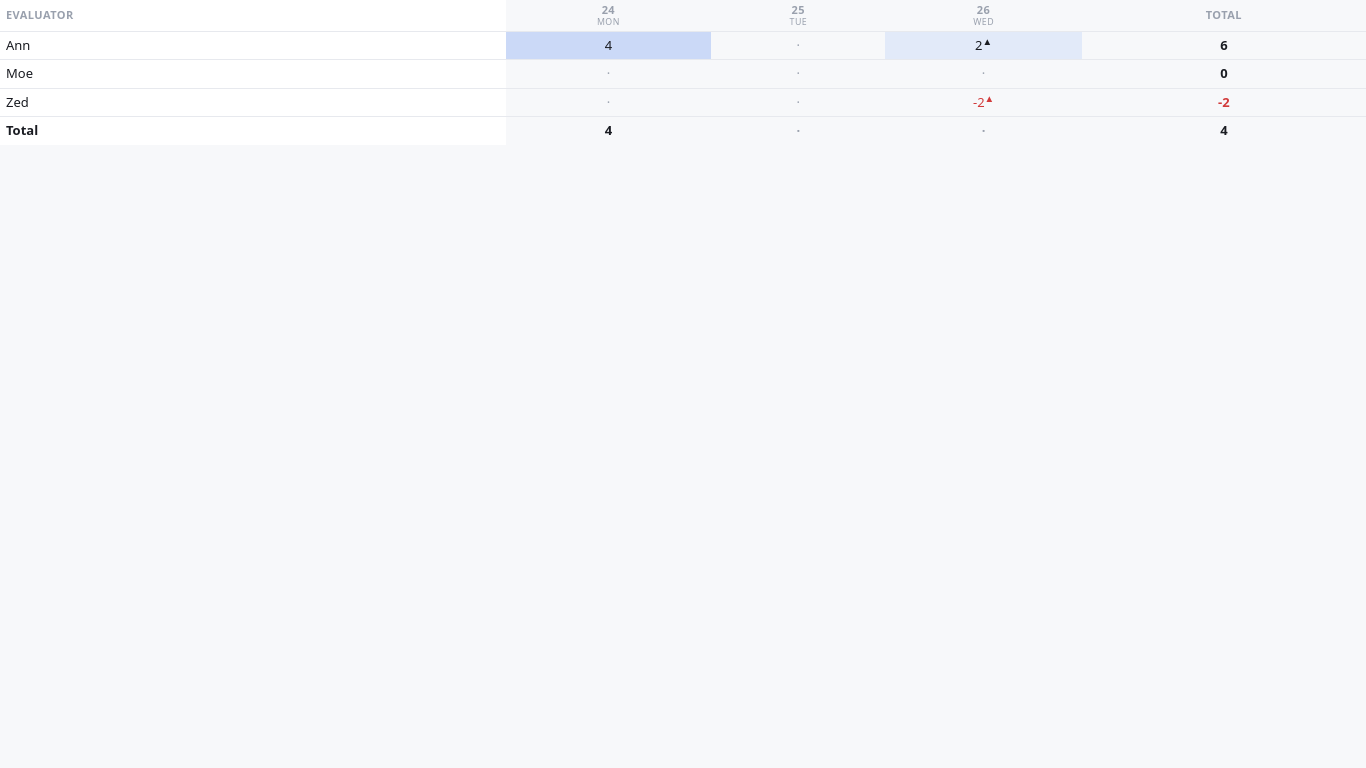
Scenario: AssignHistoryMatrix › clicking a total opens the assign vs reassign sums only
Click the button "6".
click(1224, 46)  # box [1088,36,1360,55]
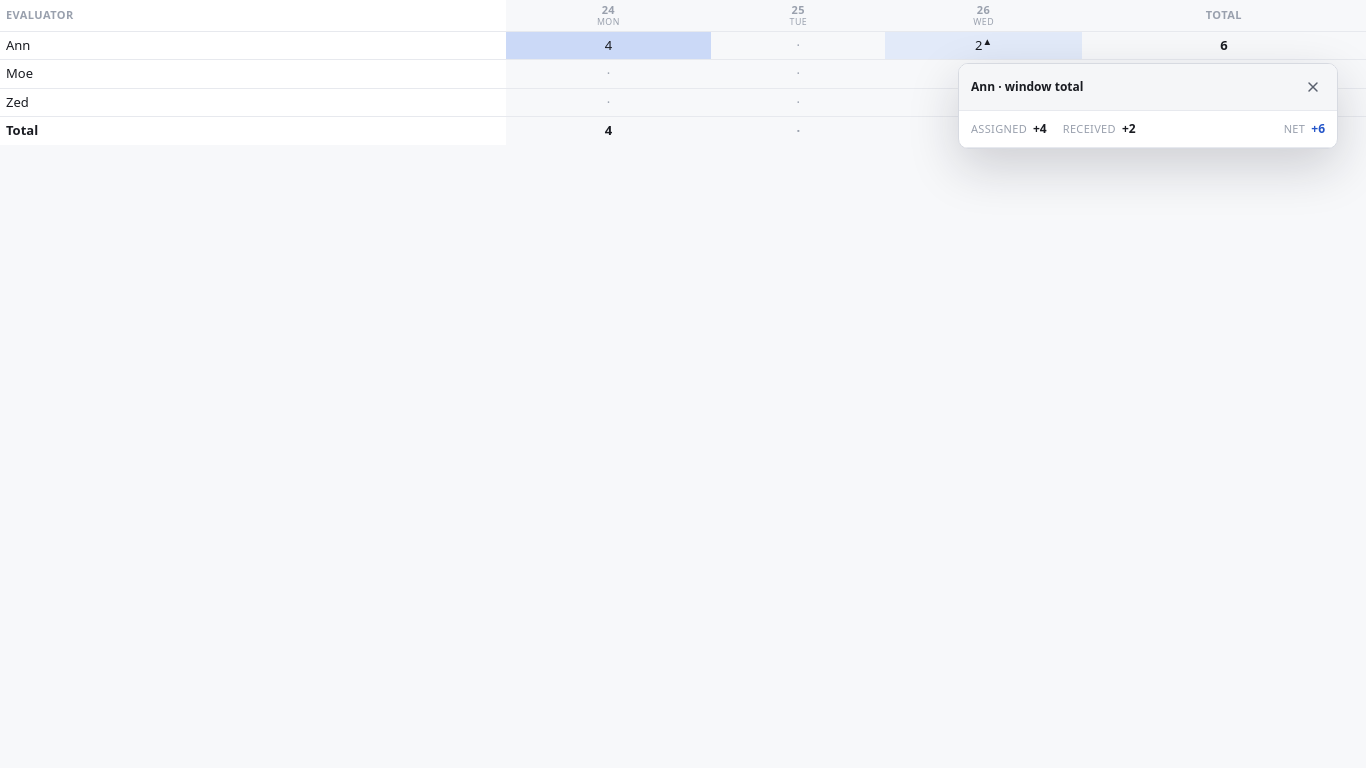
Now the dialog shows "Assigned", box [971,121,1027,136]
Now the dialog shows "Received", box [1063,121,1116,136]
Now the dialog shows "Net", box [1284,121,1305,136]
